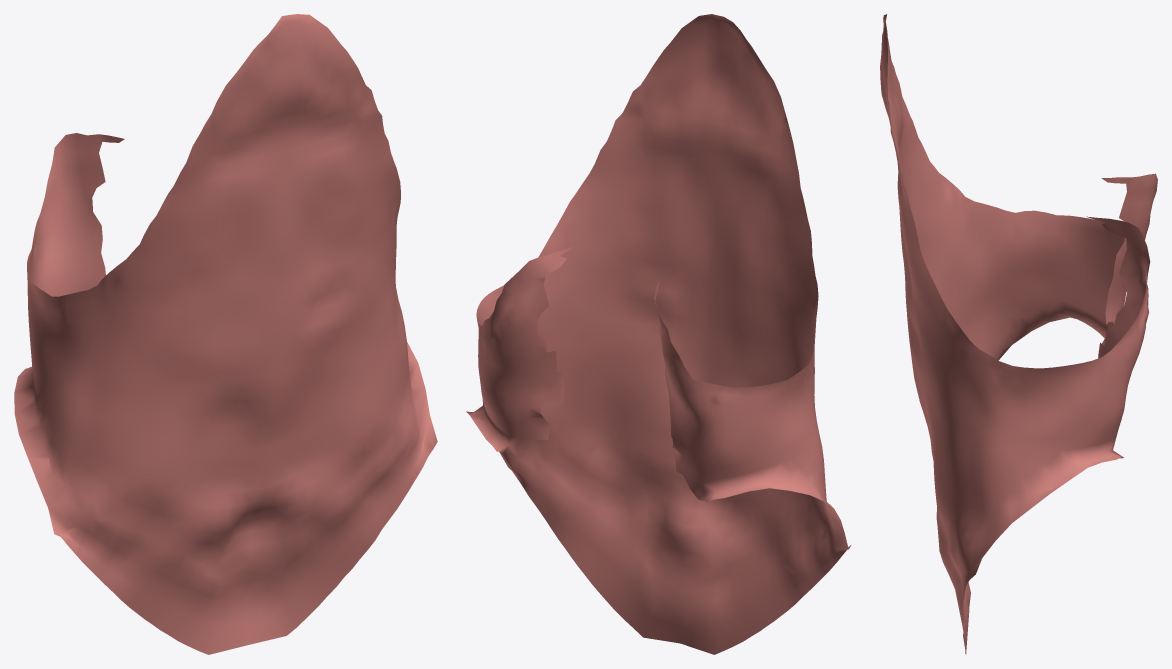
3 renders of one model, left to right at view 1: azimuth 30°, elevation 25°; view 2: azimuth 150°, elevation 25°; view 3: azimuth 270°, elevation 25°, orthographic. The views are drawn at different scales.
Parts seen in each view (by area): view 1: ZA_3ba3b76e67cbc8a9; view 2: ZA_3ba3b76e67cbc8a9; view 3: ZA_3ba3b76e67cbc8a9.
Boxes of the visible parts, x1=… form: ZA_3ba3b76e67cbc8a9: x1=14, y1=14, x2=437, y2=654; ZA_3ba3b76e67cbc8a9: x1=466, y1=14, x2=851, y2=654; ZA_3ba3b76e67cbc8a9: x1=880, y1=14, x2=1157, y2=653.
Bounding box in the file's own units: 0.2332 × 0.378 × 0.1536.
